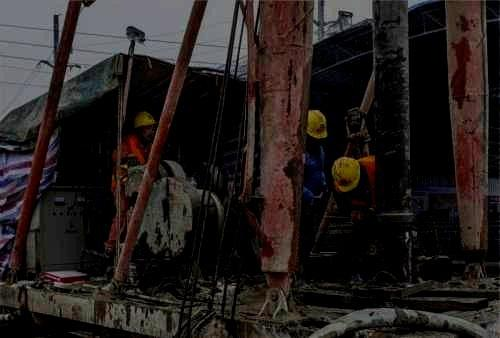helmet: (331, 156, 361, 193), (306, 109, 328, 151), (133, 110, 156, 140)
